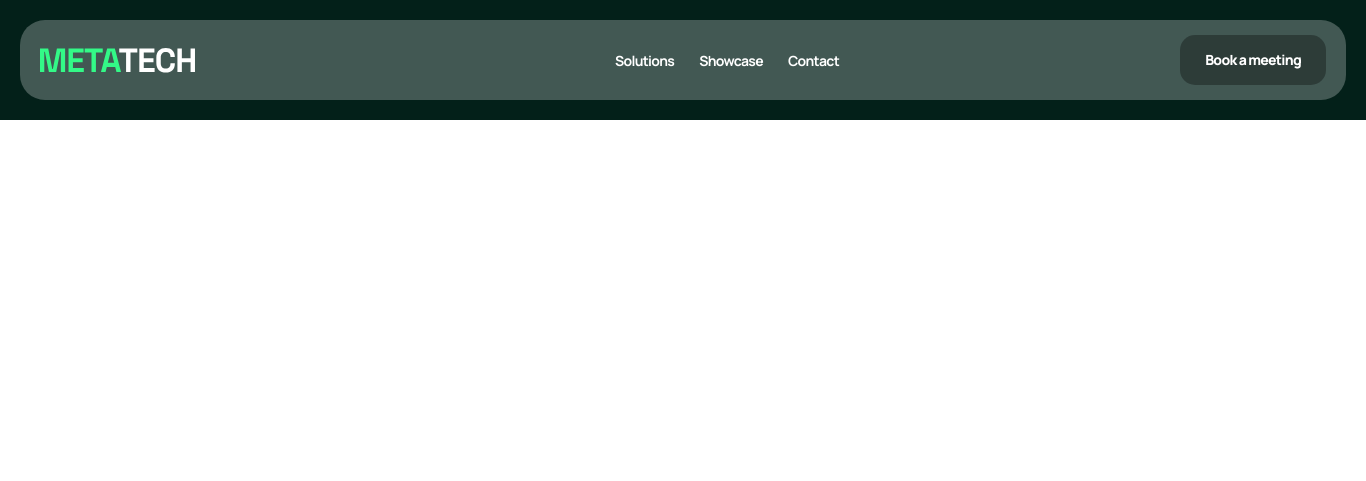
Test: Mega-menu › tap-first on touch: the first activation opens the menu instead of navigating
Click the link "Solutions" at x=645, y=60, box [615,50,674,70]
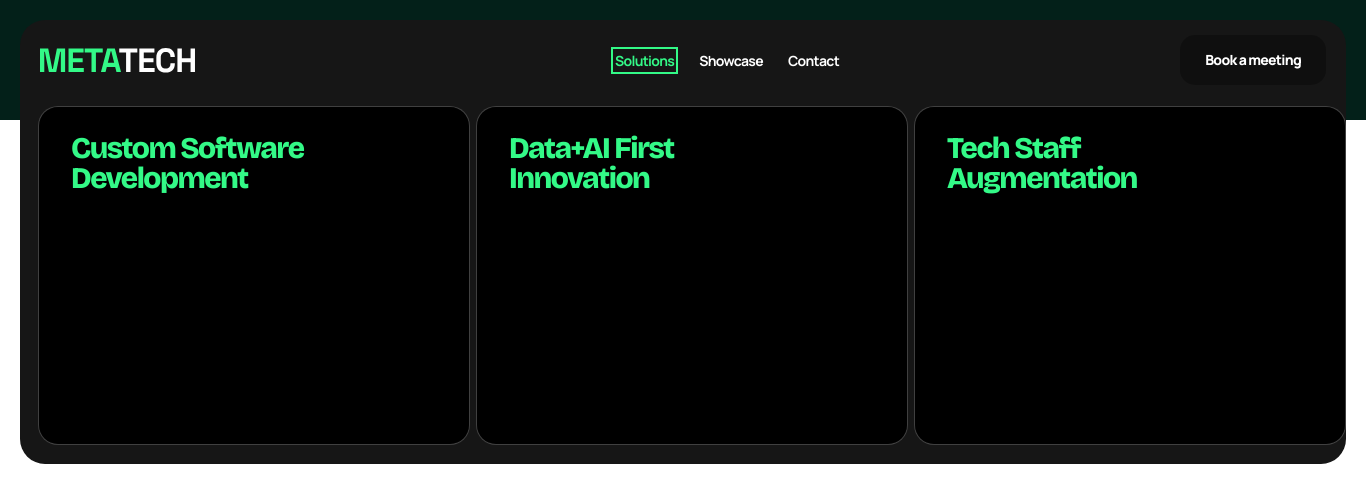
Check: the link "Solutions" is expanded, box [615,50,674,70]
Check: the element with test id "mega-menu-panel" is shown
